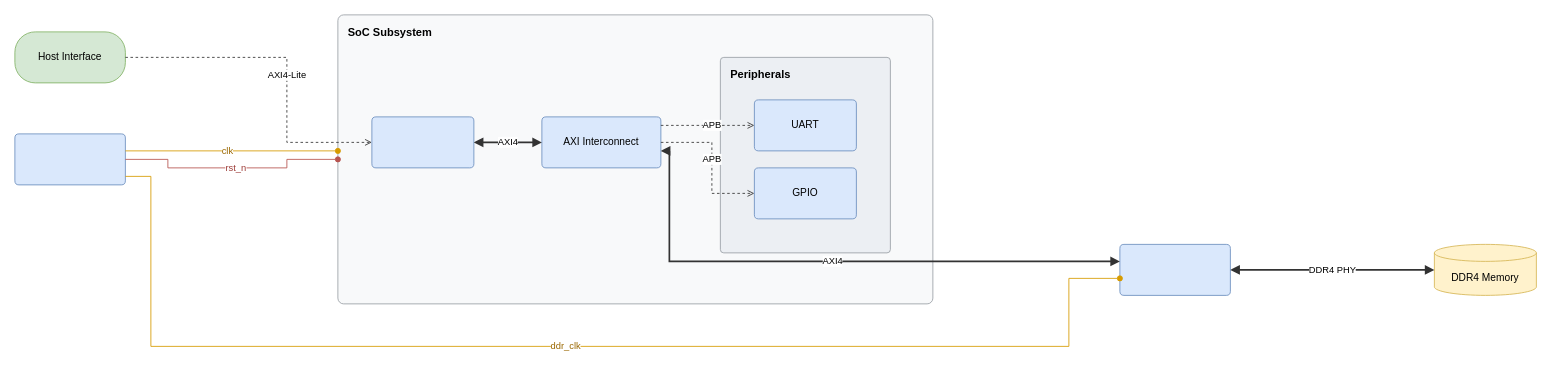
The diagram is 1551 pixels wide and 368 high, and some of its shapes have lost their labels. Each missing label, with the centre of its shape:
"Clock and Reset Gen" belongs at point 69,159.
"CPU Core" belongs at point 422,142.
"DDR Controller" belongs at point 1174,269.
